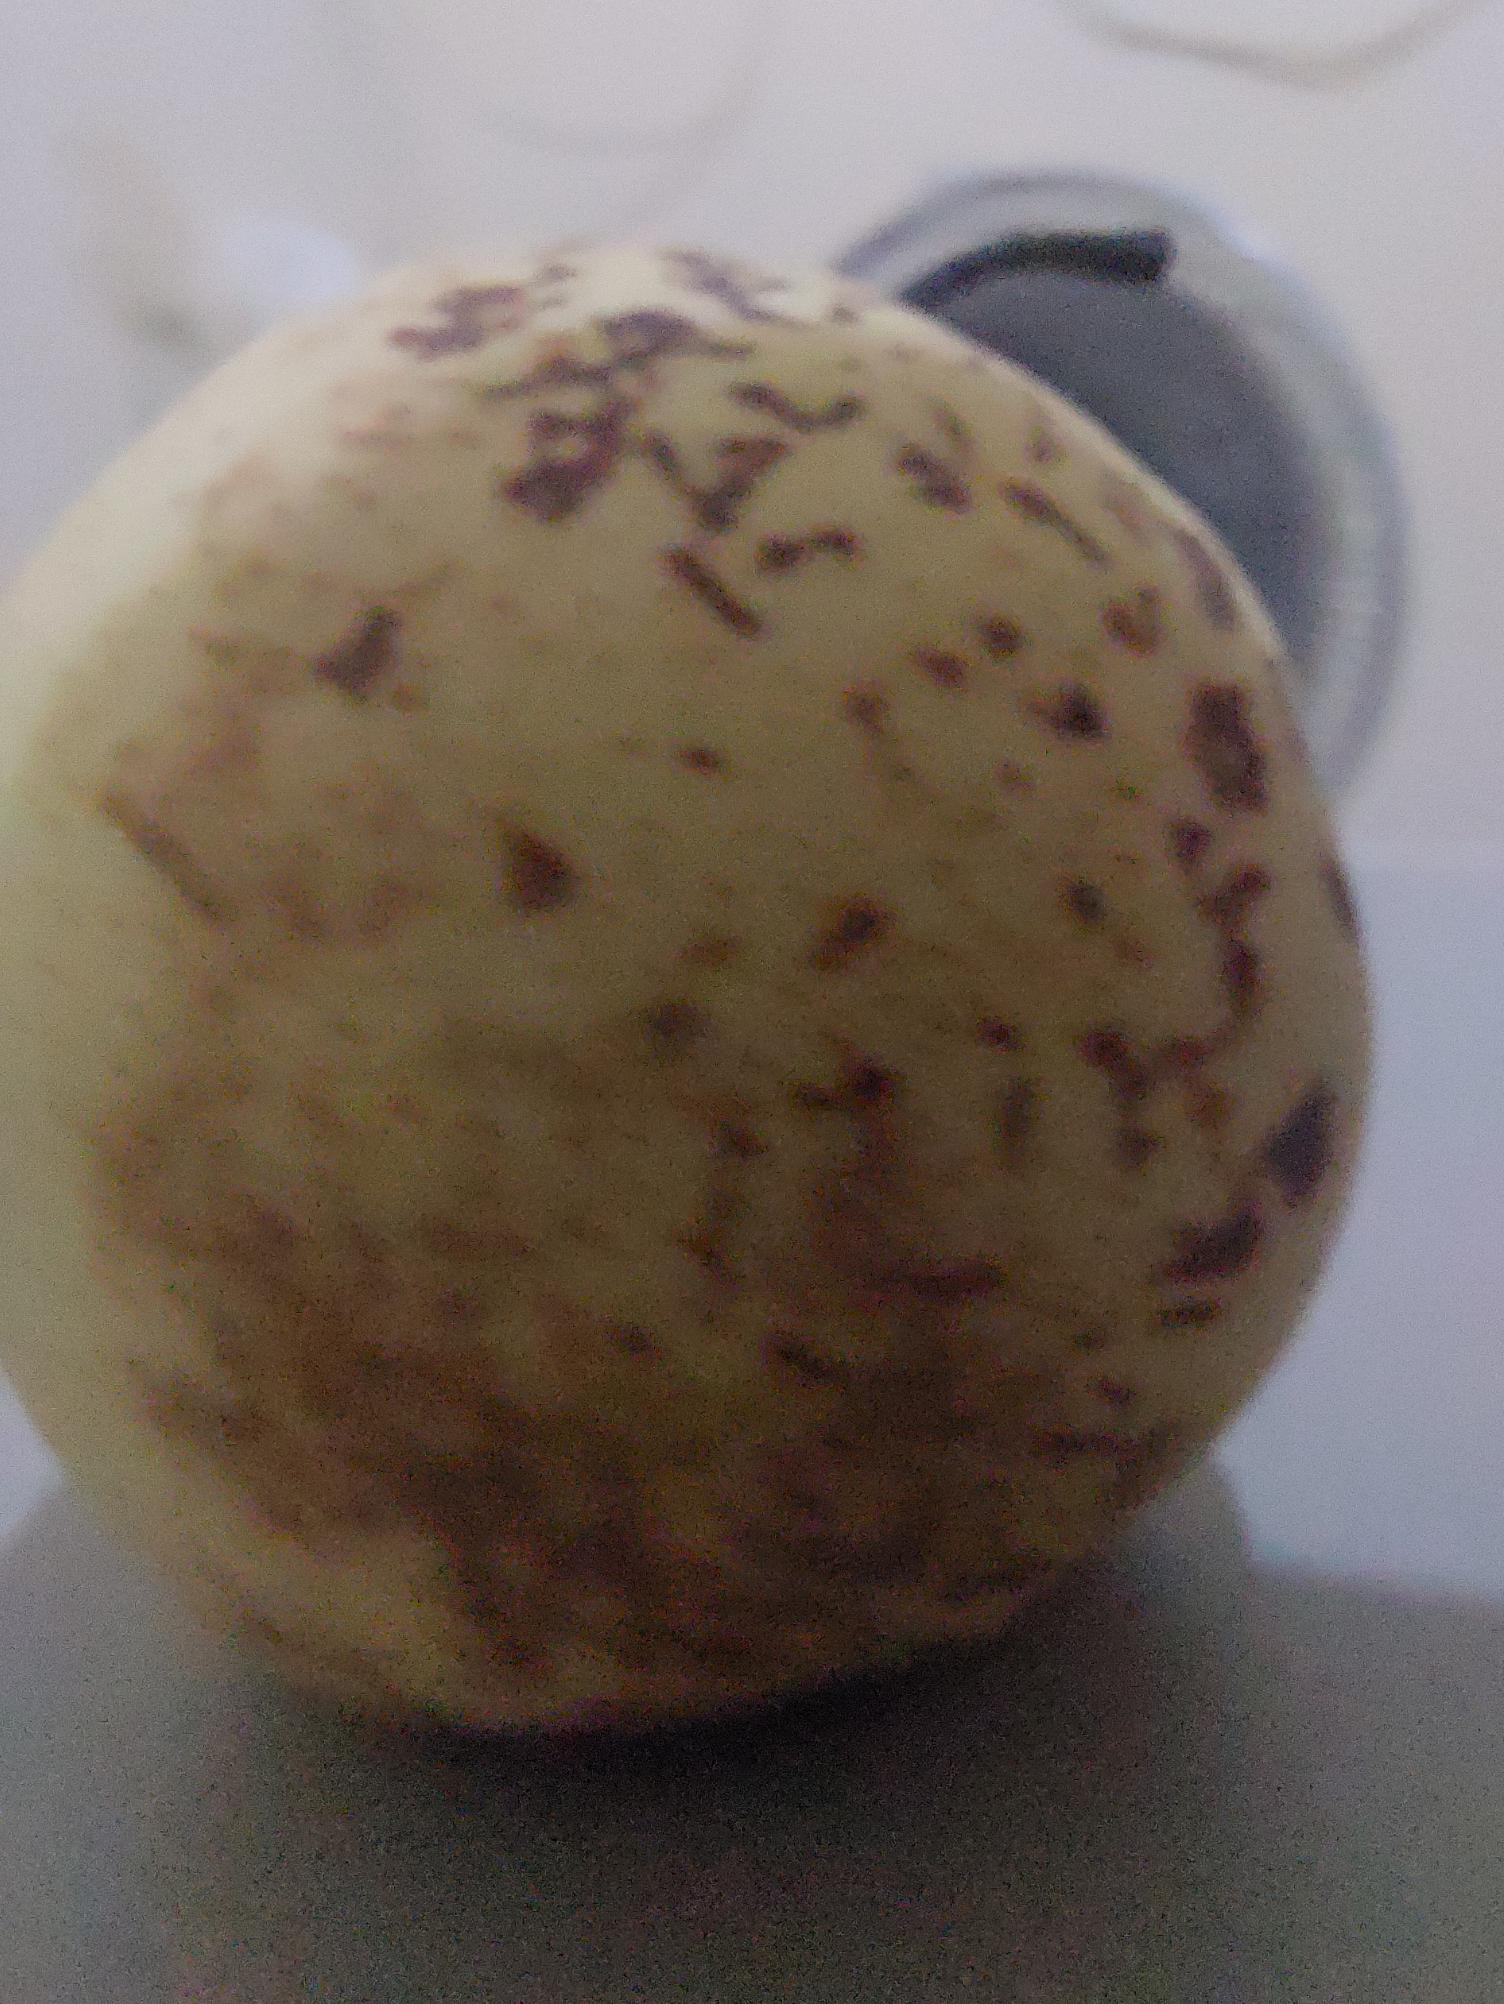Bad Pear: (0, 201, 1401, 1736)
